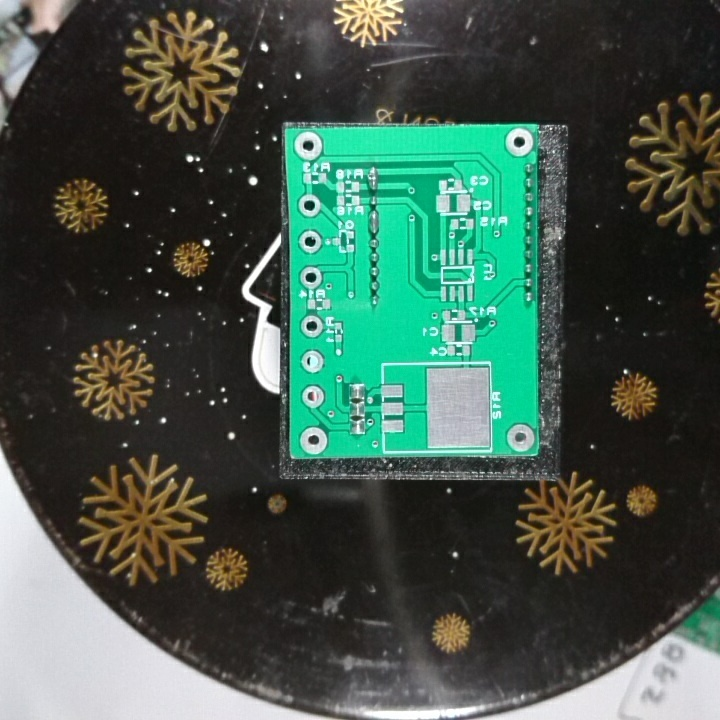F: (504, 126, 534, 158), (293, 130, 323, 162), (505, 423, 538, 452), (299, 426, 329, 455), (299, 312, 325, 340), (299, 349, 327, 375), (300, 383, 326, 410), (297, 193, 322, 219), (298, 229, 323, 253), (298, 266, 322, 289)
P: (365, 209, 382, 235), (365, 164, 379, 191)
